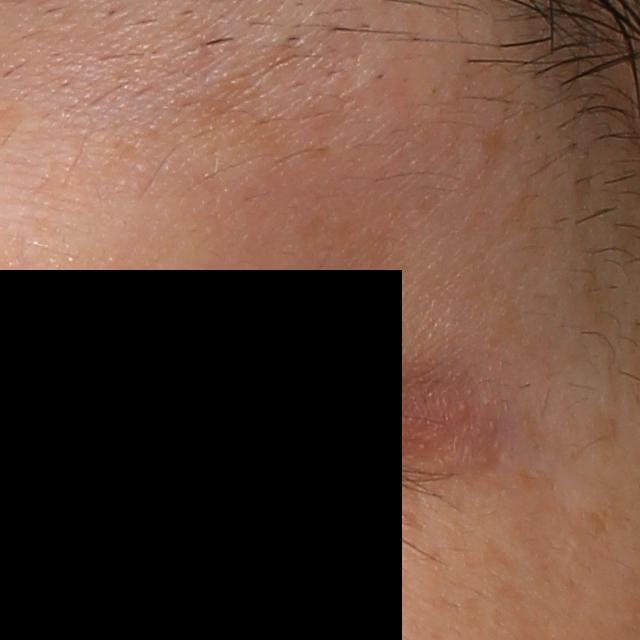melasma: (166, 64, 305, 160), (467, 122, 509, 176), (579, 505, 611, 536)
